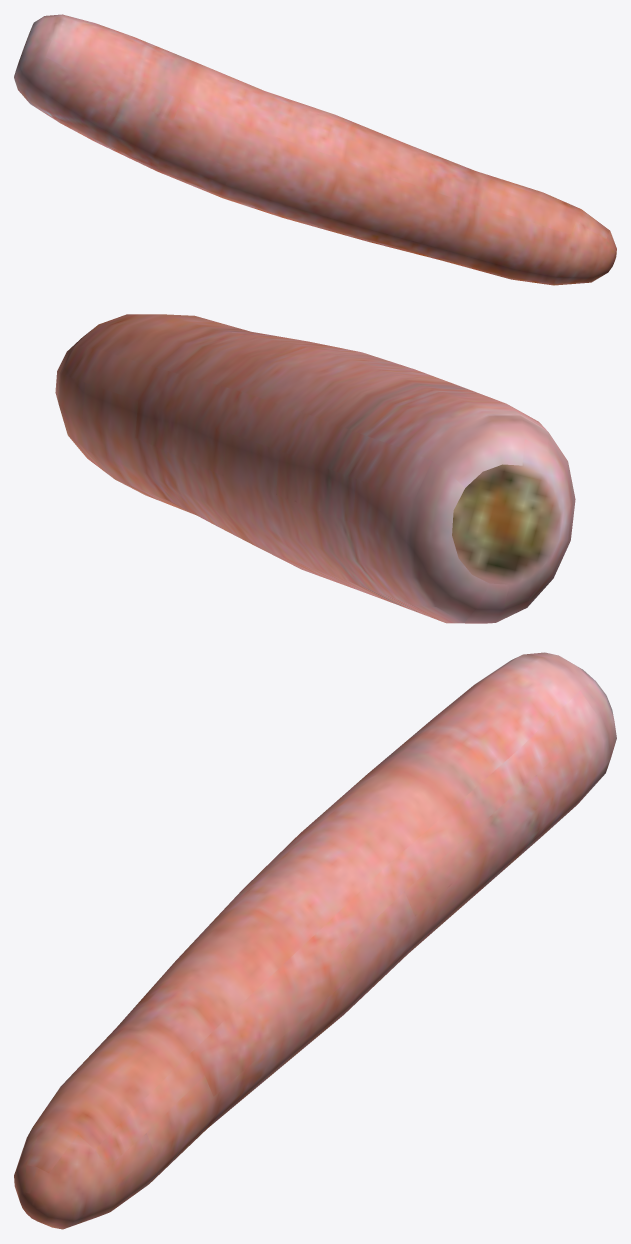
Rendered from SM_配餐室_水果蔬菜_11.fbx.
The picture shows the model from 3 angles, top to bottom: view 1: azimuth 30°, elevation 25°; view 2: azimuth 150°, elevation 25°; view 3: azimuth 270°, elevation 25°; orthographic projection. The views are drawn at different scales.
Parts seen in each view (by area): view 1: SM_配餐室_水果蔬菜_11; view 2: SM_配餐室_水果蔬菜_11; view 3: SM_配餐室_水果蔬菜_11.
Part boxes in pixels (x1,y1,x2,y2): SM_配餐室_水果蔬菜_11: [14, 14, 616, 285]; SM_配餐室_水果蔬菜_11: [55, 314, 575, 623]; SM_配餐室_水果蔬菜_11: [14, 652, 616, 1229].
Bounding box in the file's own units: 169 × 87.44 × 148.
